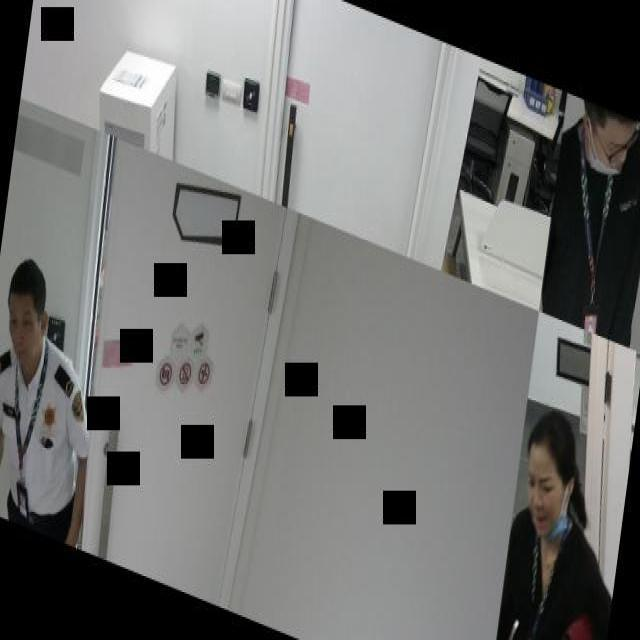hairnet: (527, 464, 570, 544), (587, 121, 636, 178)
